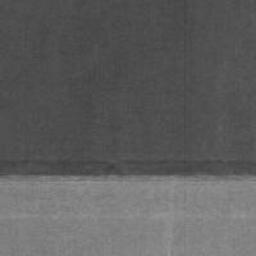Welding line: (0, 174, 256, 184)
